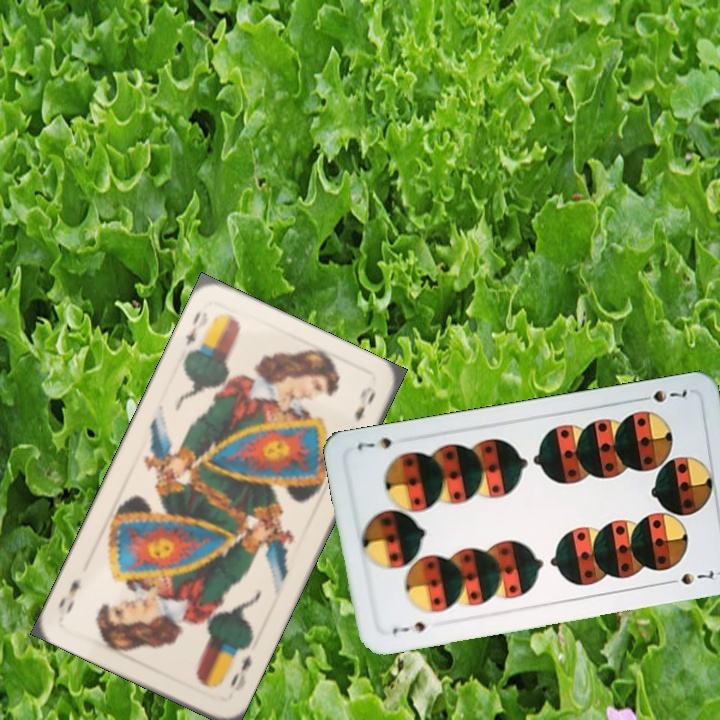EO: (181, 307, 206, 358), (226, 650, 254, 690)
S7: (634, 384, 690, 405), (388, 617, 428, 637)
